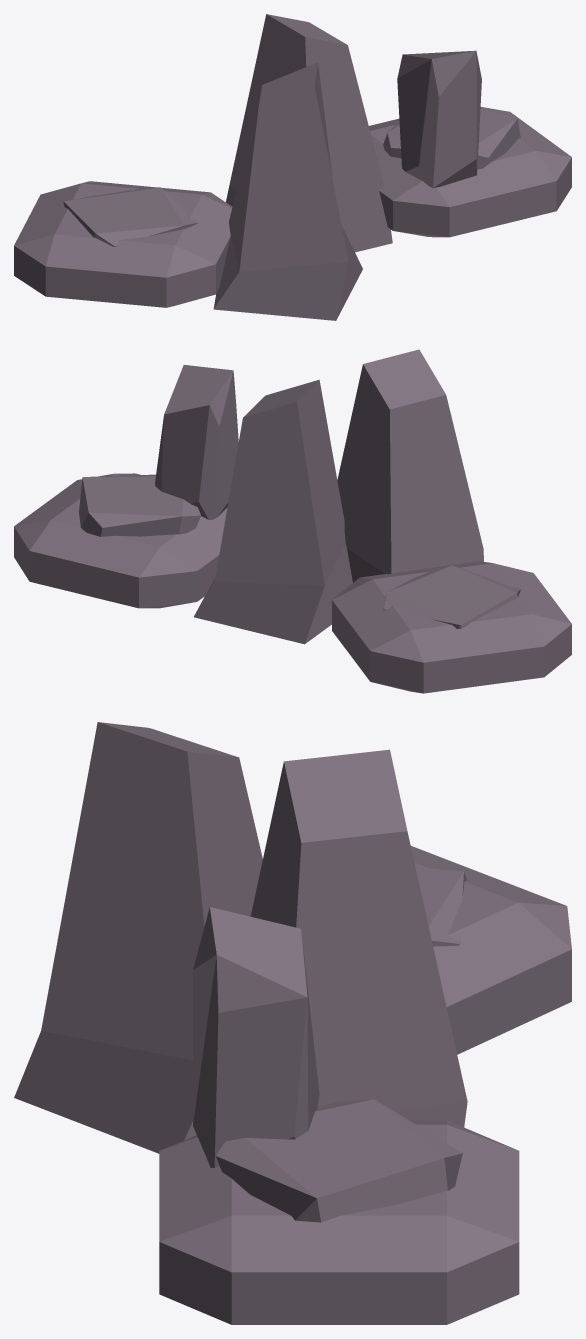
Rendered from Rock_v13.fbx.
The picture shows the model from 3 angles, top to bottom: view 1: azimuth 30°, elevation 25°; view 2: azimuth 150°, elevation 25°; view 3: azimuth 270°, elevation 25°; orthographic projection. The views are drawn at different scales.
Parts seen in each view (by area): view 1: Rock_v13; view 2: Rock_v13; view 3: Rock_v13.
Part boxes in pixels (x1,y1,x2,y2): Rock_v13: (14, 14, 571, 320); Rock_v13: (14, 349, 571, 693); Rock_v13: (14, 722, 571, 1324).
Size of the model in its own units: 89.79 by 37.25 by 49.13.
1 material, 1 textured.
